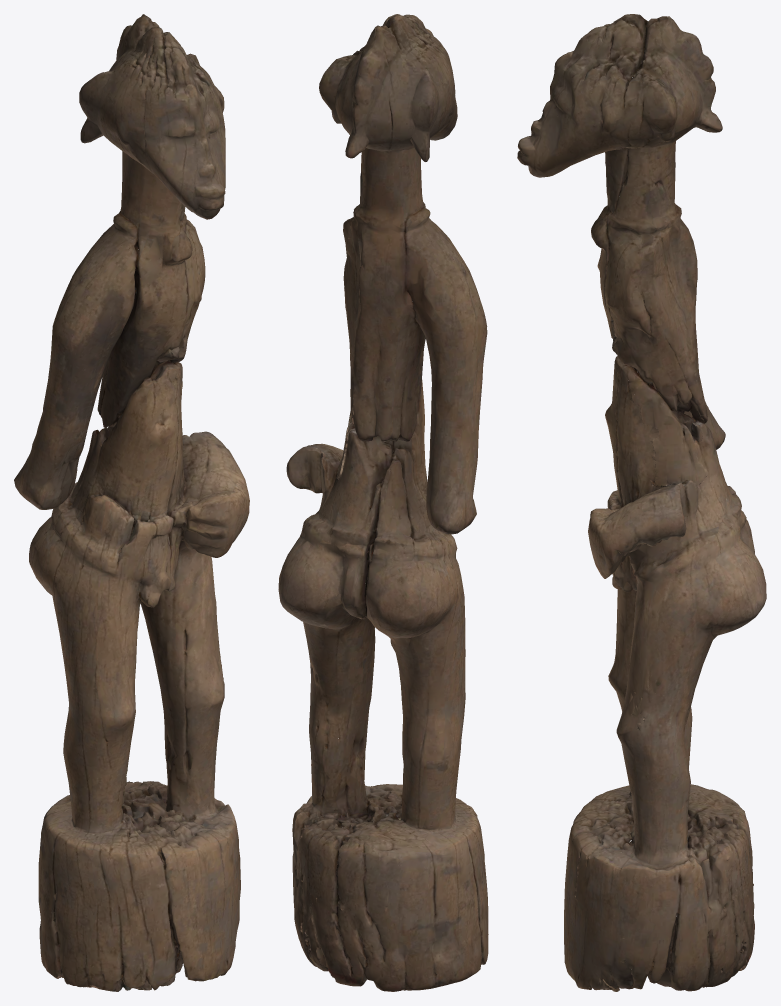
The model's file is preview.glb.
The picture shows the model from 3 angles, left to right: view 1: azimuth 30°, elevation 25°; view 2: azimuth 150°, elevation 25°; view 3: azimuth 270°, elevation 25°; orthographic projection. The views are drawn at different scales.
Parts seen in each view (by area): view 1: ADVIMG_1978_412_315_MalePoroFigure_Model_3_ADVIMG_1978_412_3; view 2: ADVIMG_1978_412_315_MalePoroFigure_Model_3_ADVIMG_1978_412_3; view 3: ADVIMG_1978_412_315_MalePoroFigure_Model_3_ADVIMG_1978_412_3.
Boxes of the visible parts, x1,y1,x2,y2 form: ADVIMG_1978_412_315_MalePoroFigure_Model_3_ADVIMG_1978_412_3: (14,14,249,991); ADVIMG_1978_412_315_MalePoroFigure_Model_3_ADVIMG_1978_412_3: (278,14,488,991); ADVIMG_1978_412_315_MalePoroFigure_Model_3_ADVIMG_1978_412_3: (517,14,766,991).
Size of the model in its own units: 0.2258 by 1.07 by 0.2516.
1 material, 1 textured.
